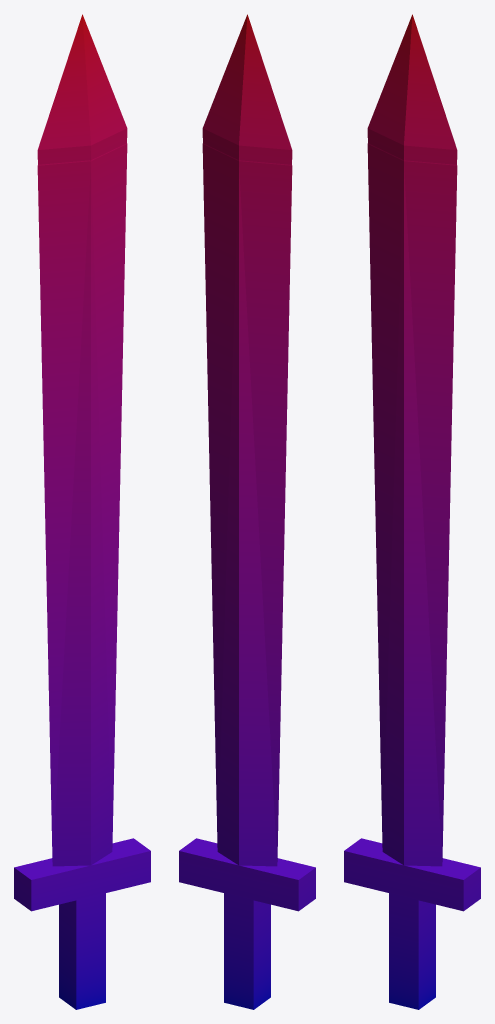
File: sword.glb
The picture shows the model from 3 angles, left to right: view 1: azimuth 30°, elevation 25°; view 2: azimuth 150°, elevation 25°; view 3: azimuth 330°, elevation 25°; orthographic projection.
Visible parts, largest first — view 1: tmp0jx1h0s3.obj; view 2: tmp0jx1h0s3.obj; view 3: tmp0jx1h0s3.obj.
Part boxes in pixels (bbox=[...]): tmp0jx1h0s3.obj: bbox=[14, 14, 150, 1009]; tmp0jx1h0s3.obj: bbox=[179, 14, 315, 1009]; tmp0jx1h0s3.obj: bbox=[344, 14, 480, 1009].
Size of the model in its own units: 8 by 63 by 2.
